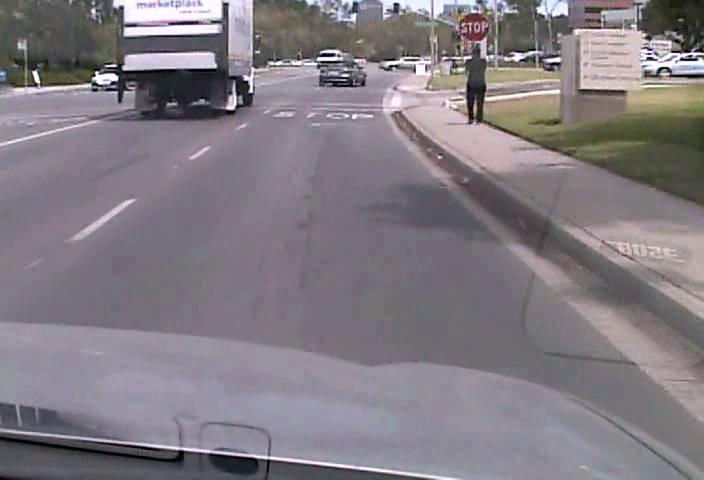stop: (458, 12, 490, 41)
